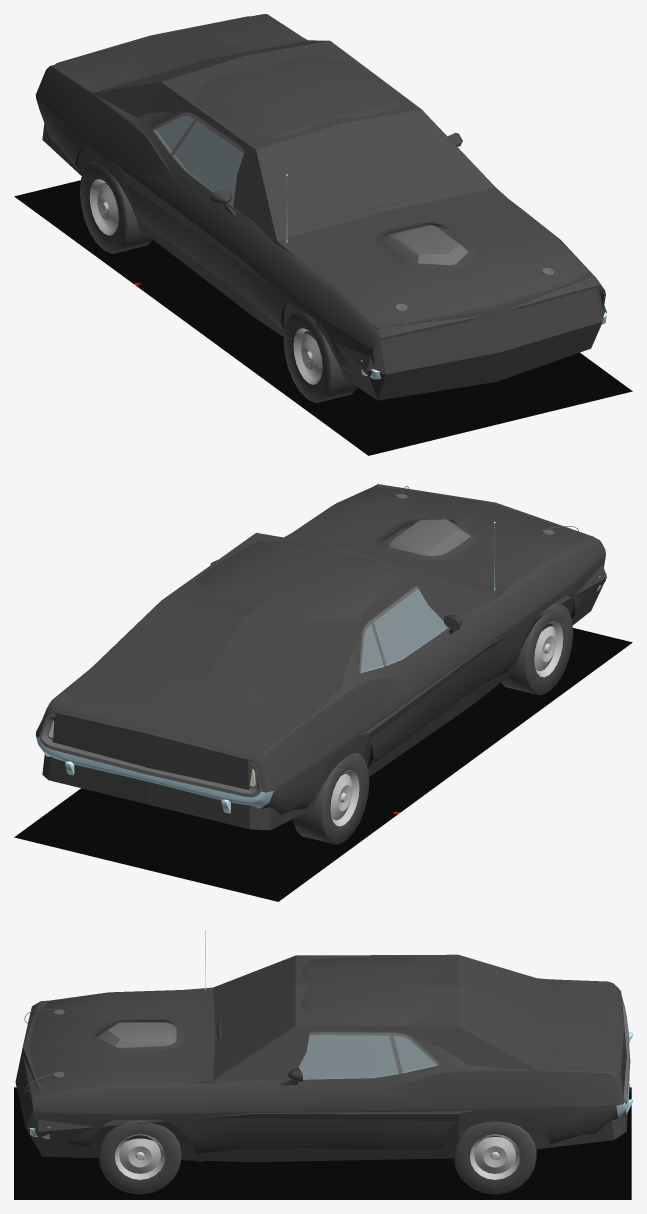
The model's file is Diesel.fbx.
The picture shows the model from 3 angles, top to bottom: view 1: azimuth 30°, elevation 25°; view 2: azimuth 150°, elevation 25°; view 3: azimuth 270°, elevation 25°; orthographic projection. The views are drawn at different scales.
Parts seen in each view (by area): view 1: Diesel_body, Diesel_body_col, CarShadow, Diesel_wheel_RR, Diesel_wheel_FR; view 2: Diesel_body, Diesel_body_col, CarShadow, Diesel_wheel_RR, Diesel_wheel_FR; view 3: Diesel_body, Diesel_body_col, CarShadow, Diesel_wheel_RL, Diesel_wheel_FL.
Part boxes in pixels (x1,y1,x2,y2): Diesel_body: (35,14,606,379); Diesel_body_col: (42,16,606,400); CarShadow: (14,180,632,455); Diesel_wheel_RR: (80,162,152,253); Diesel_wheel_FR: (283,312,357,402); Diesel_body: (35,486,606,814); Diesel_body_col: (42,484,606,830); CarShadow: (14,628,632,901); Diesel_wheel_RR: (292,753,369,844); Diesel_wheel_FR: (501,603,573,695); Diesel_body: (22,930,632,1162); Diesel_body_col: (15,954,629,1162); CarShadow: (14,1087,631,1199); Diesel_wheel_RL: (453,1121,536,1194); Diesel_wheel_FL: (98,1120,181,1194).
Size of the model in its own units: 2.08 by 1.46 by 4.83.
